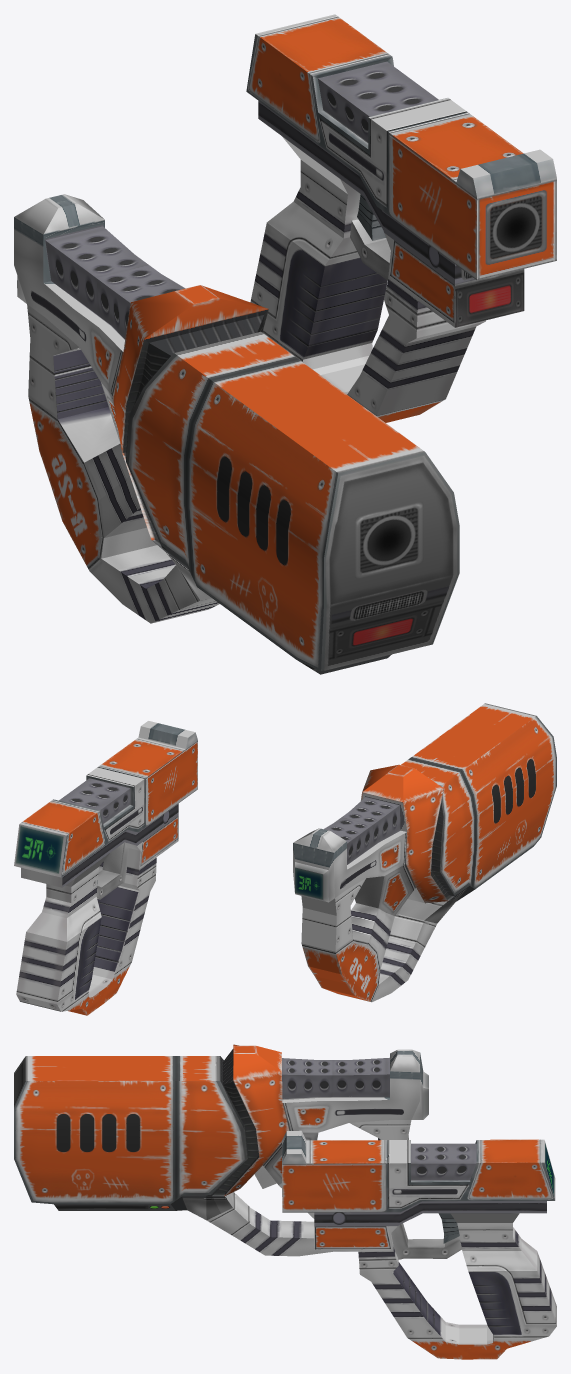
File: multi_guns.fbx
3 views of the same model, one above another, from view 1: azimuth 30°, elevation 25°; view 2: azimuth 150°, elevation 25°; view 3: azimuth 270°, elevation 25° (orthographic). The views are drawn at different scales.
Visible parts, largest first — view 1: gun_hevy, pCube1; view 2: gun_hevy, pCube1; view 3: gun_hevy, pCube1.
Boxes of the visible parts, bbox=[...] form: gun_hevy: bbox=[14, 194, 459, 674]; pCube1: bbox=[246, 14, 556, 422]; gun_hevy: bbox=[293, 703, 556, 1002]; pCube1: bbox=[14, 721, 197, 1015]; gun_hevy: bbox=[14, 1044, 428, 1256]; pCube1: bbox=[282, 1130, 556, 1359].
Bounding box in the file's own units: 3.06 × 2.23 × 5.29.
